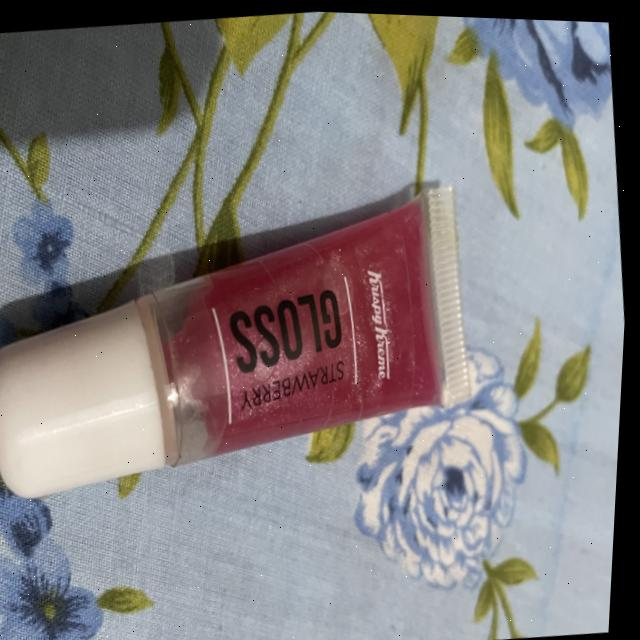lip balm: (0, 144, 513, 527)
